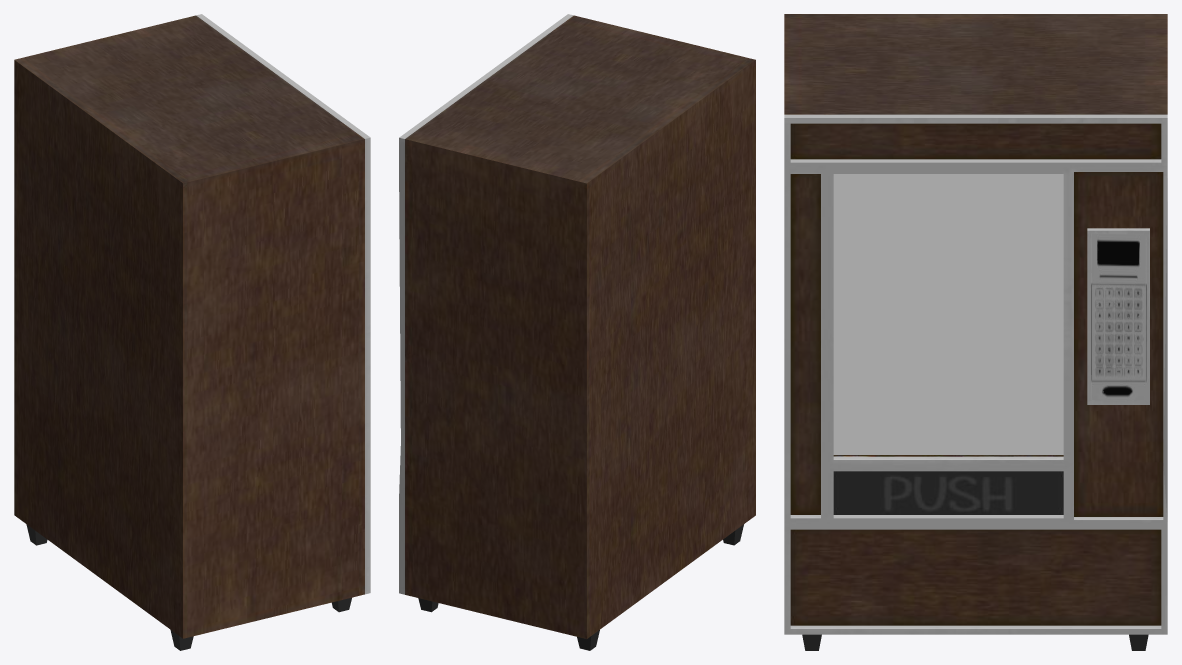
The model's file is VendingMachine.glb.
3 renders of one model, left to right at view 1: azimuth 30°, elevation 25°; view 2: azimuth 150°, elevation 25°; view 3: azimuth 270°, elevation 25°, orthographic. The views are drawn at different scales.
Parts seen in each view (by area): view 1: Vending Machine; view 2: Vending Machine; view 3: Vending Machine, Vending Machine.002.
Part boxes in pixels (x1,y1,x2,y2): Vending Machine: (14,14,370,650); Vending Machine: (399,14,755,650); Vending Machine: (784,14,1167,650); Vending Machine.002: (833,471,1063,514).
Bounding box in the file's own units: 0.5886 × 1.43 × 0.9176.
Materials: 5 (2 with a texture image).
